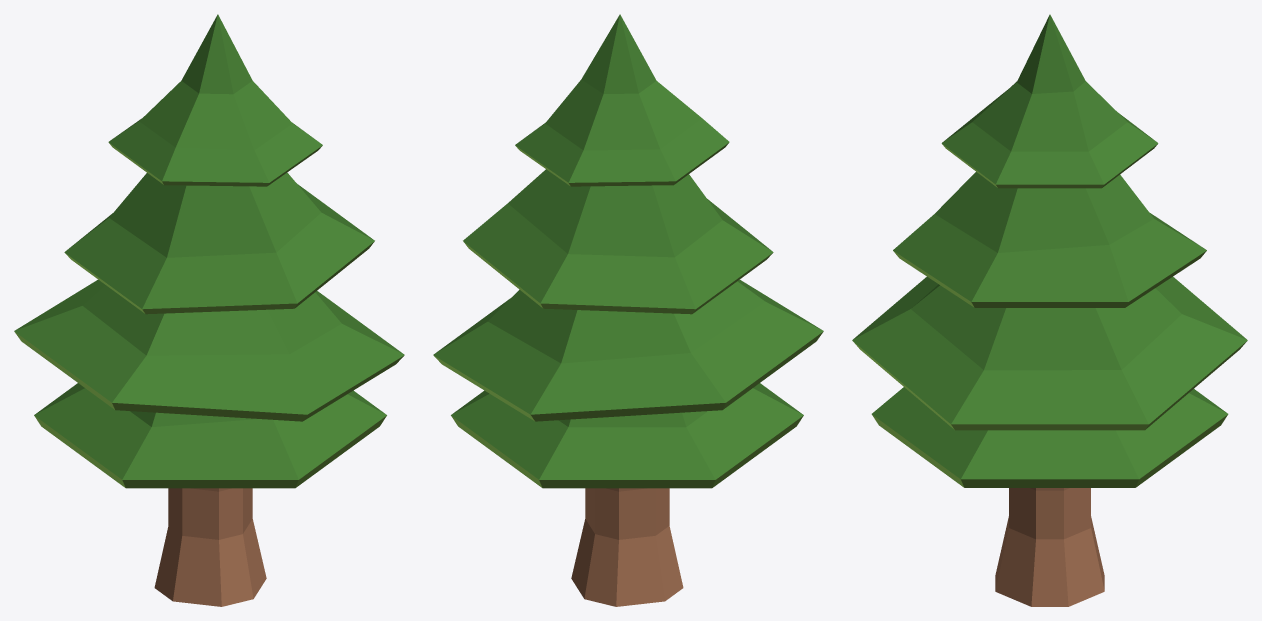
File: Pine.fbx
The picture shows the model from 3 angles, left to right: view 1: azimuth 30°, elevation 25°; view 2: azimuth 150°, elevation 25°; view 3: azimuth 270°, elevation 25°; orthographic projection.
Visible parts, largest first — view 1: Pine; view 2: Pine; view 3: Pine.
Part boxes in pixels (left/top/right/bottom): Pine: left=14, top=14, right=404, bottom=606; Pine: left=433, top=14, right=823, bottom=606; Pine: left=852, top=14, right=1247, bottom=606.
Bounding box in the file's own units: 110 × 204 × 127.
